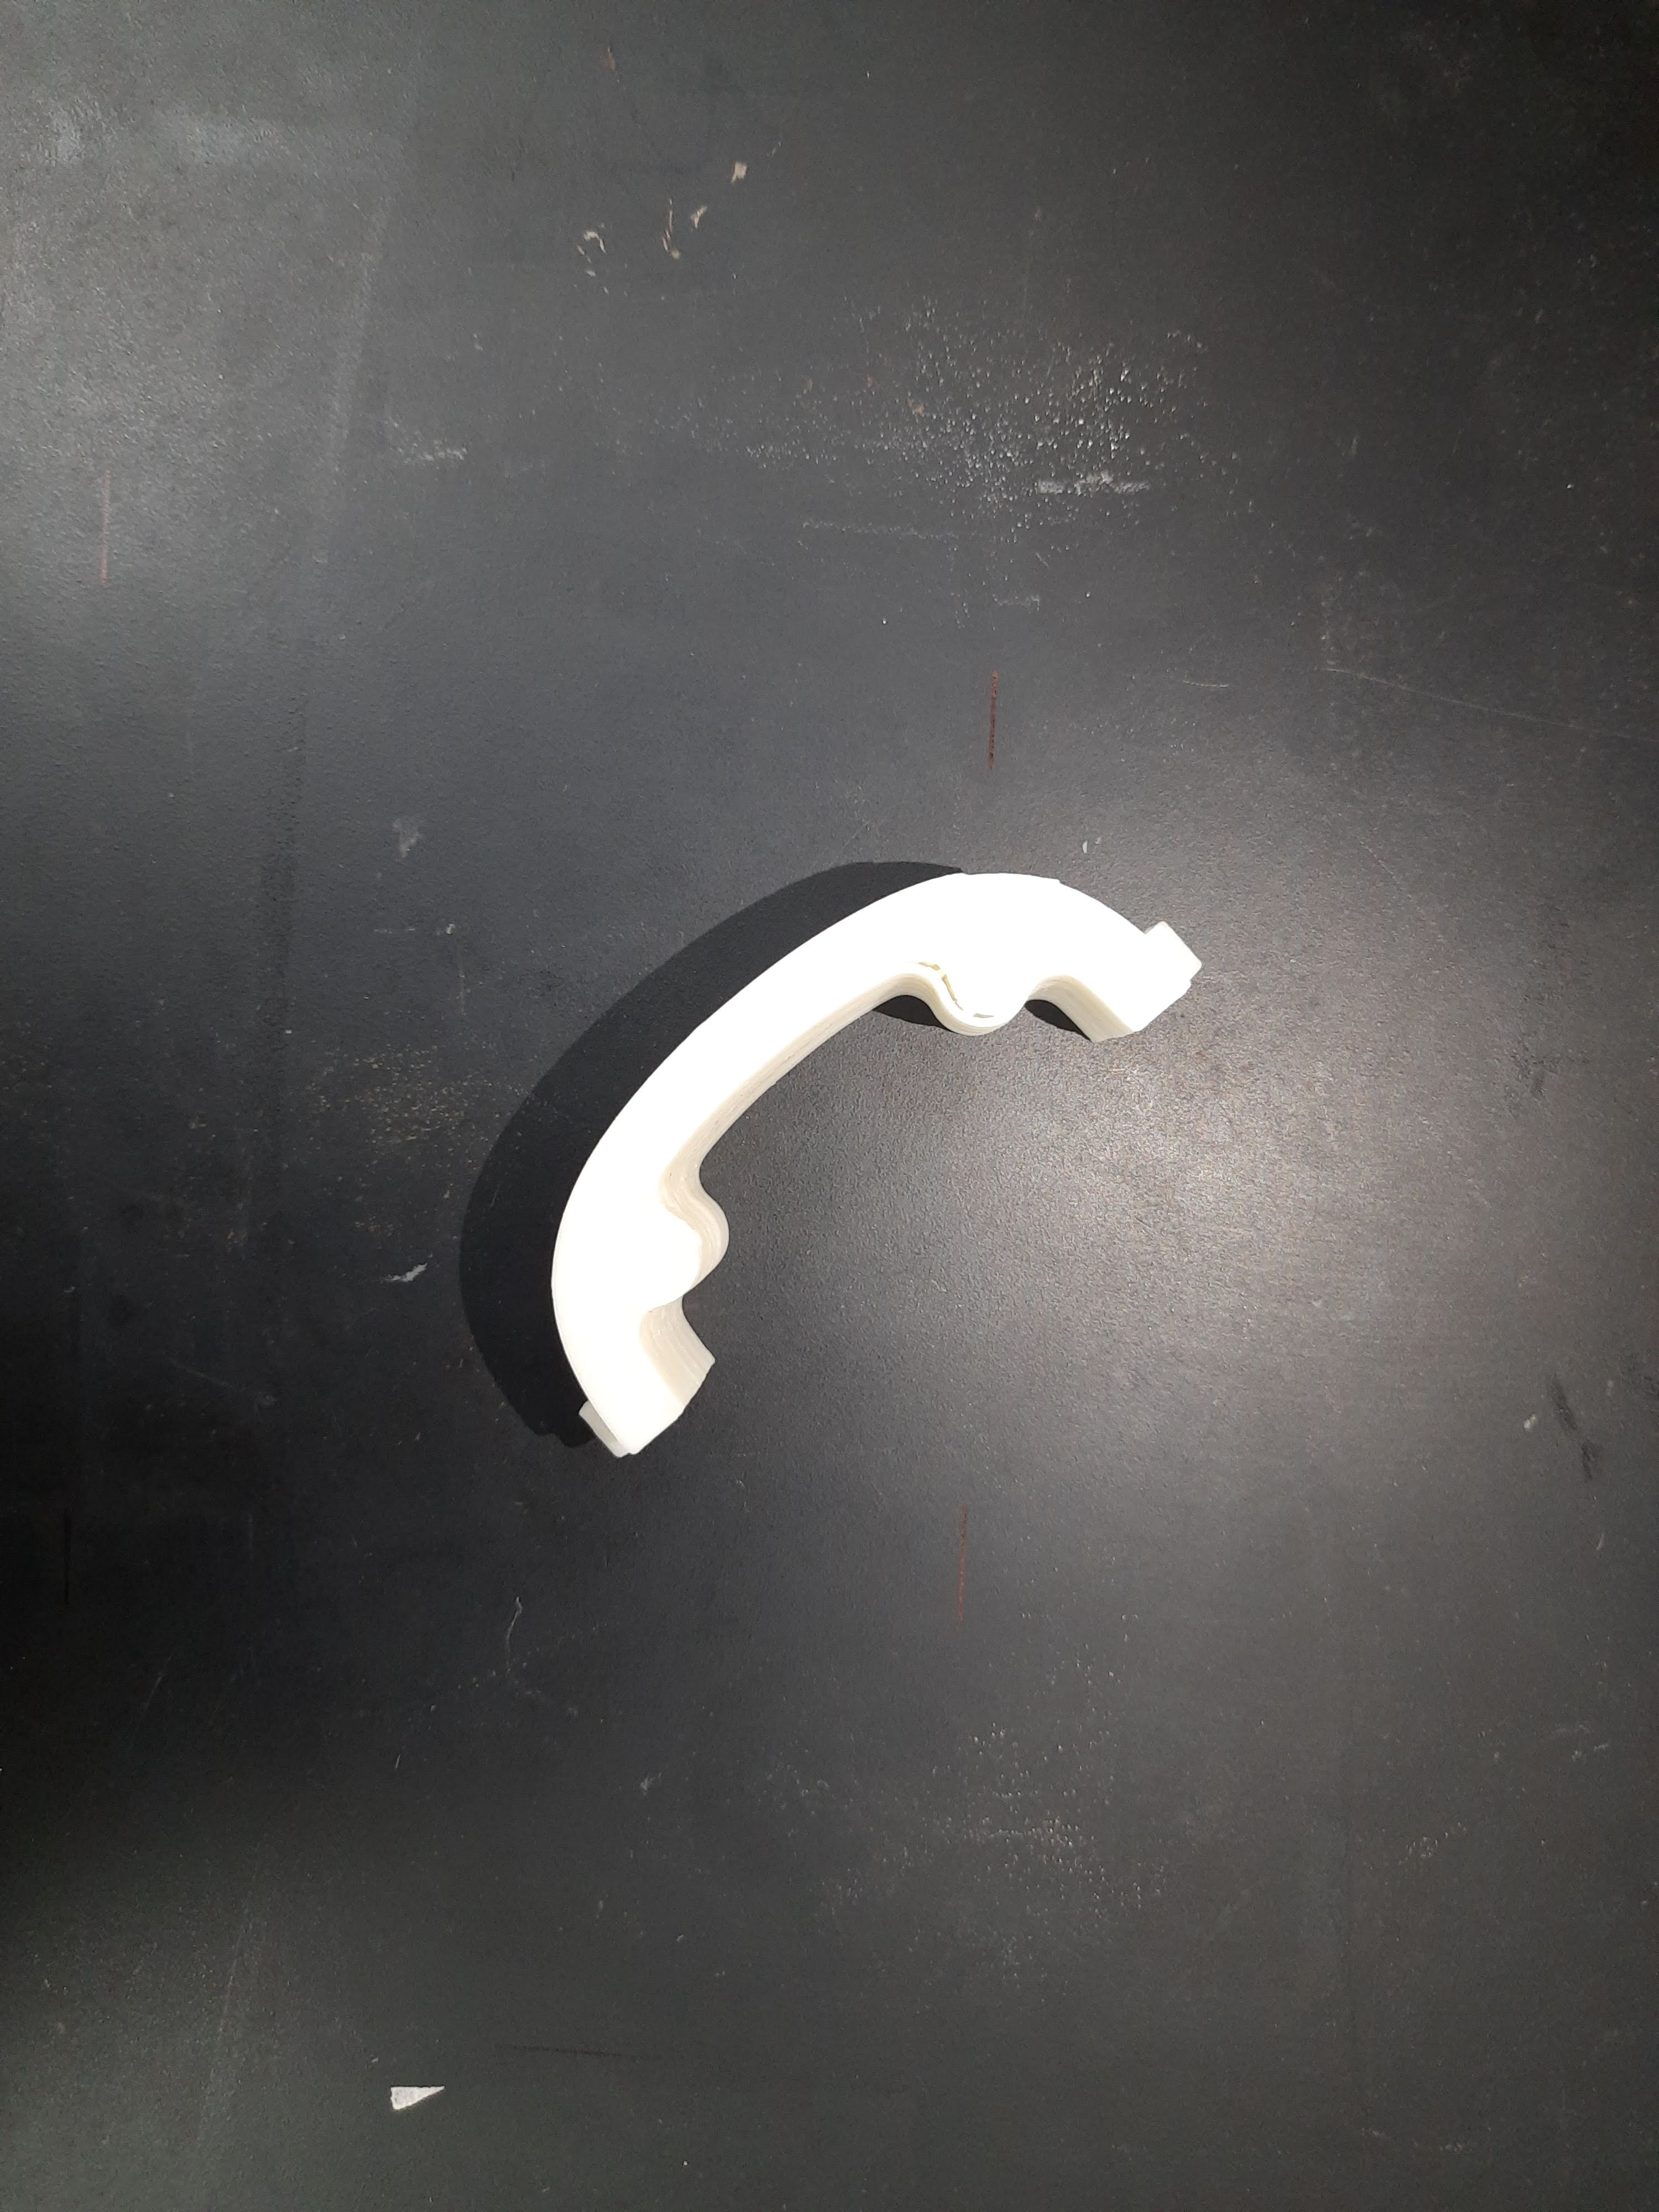ARC: (439, 738, 1215, 1460)
